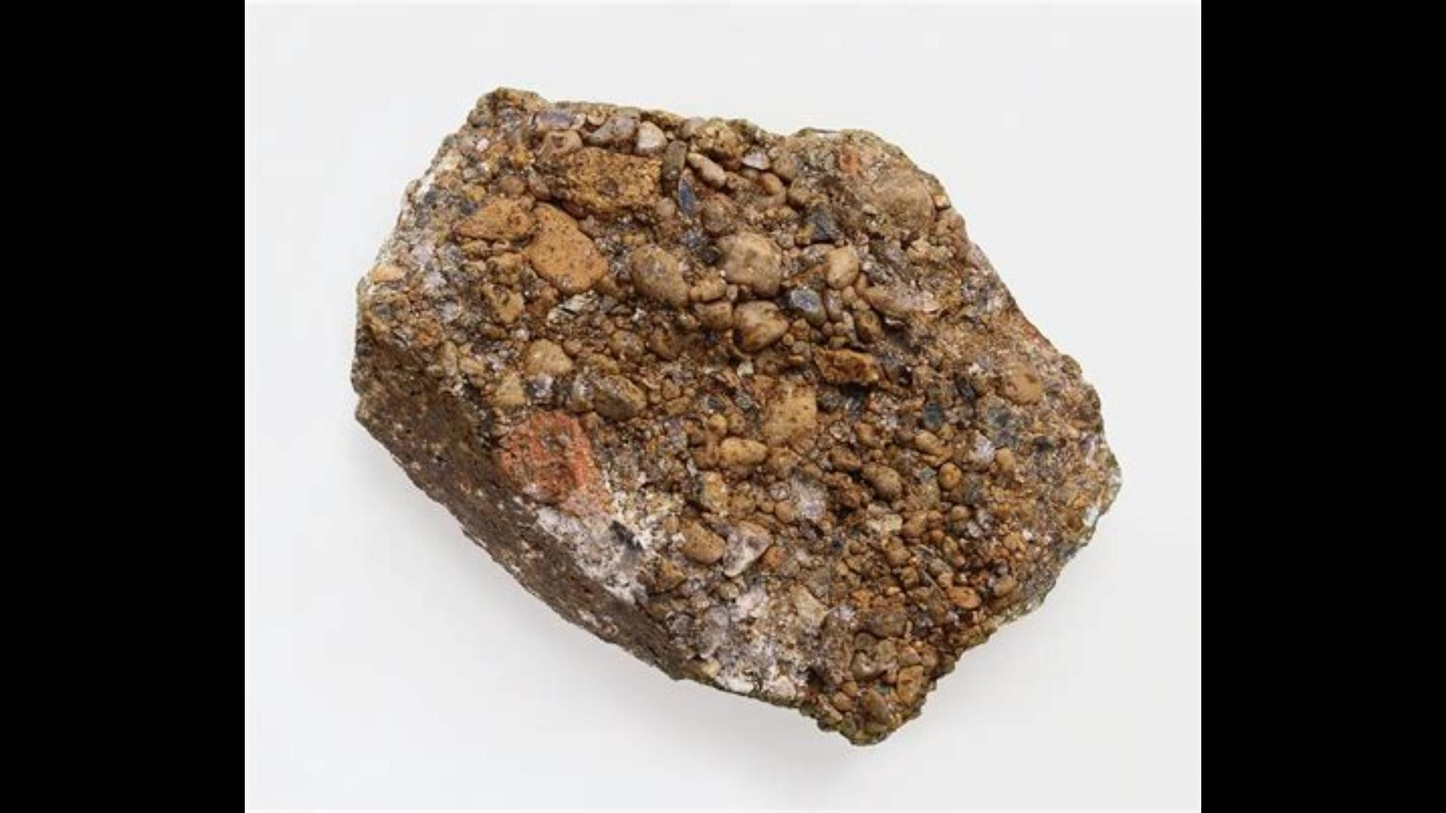rock: (358, 95, 1117, 740)
